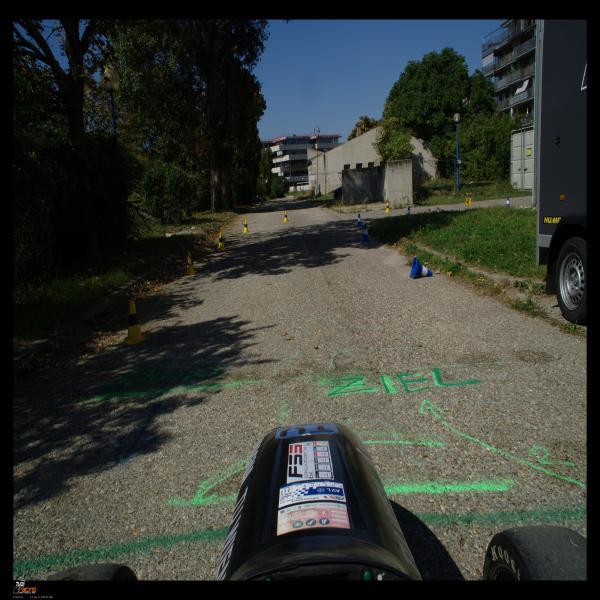blue_cone: (408, 258, 432, 278), (360, 224, 372, 242), (356, 214, 363, 227), (506, 197, 510, 207), (407, 206, 410, 214)
yellow_cone: (120, 300, 150, 346), (183, 251, 197, 276), (218, 232, 226, 250), (242, 220, 250, 233), (384, 202, 390, 213), (282, 211, 288, 222), (465, 198, 471, 205)
